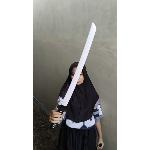Pedang: (47, 22, 99, 134)
